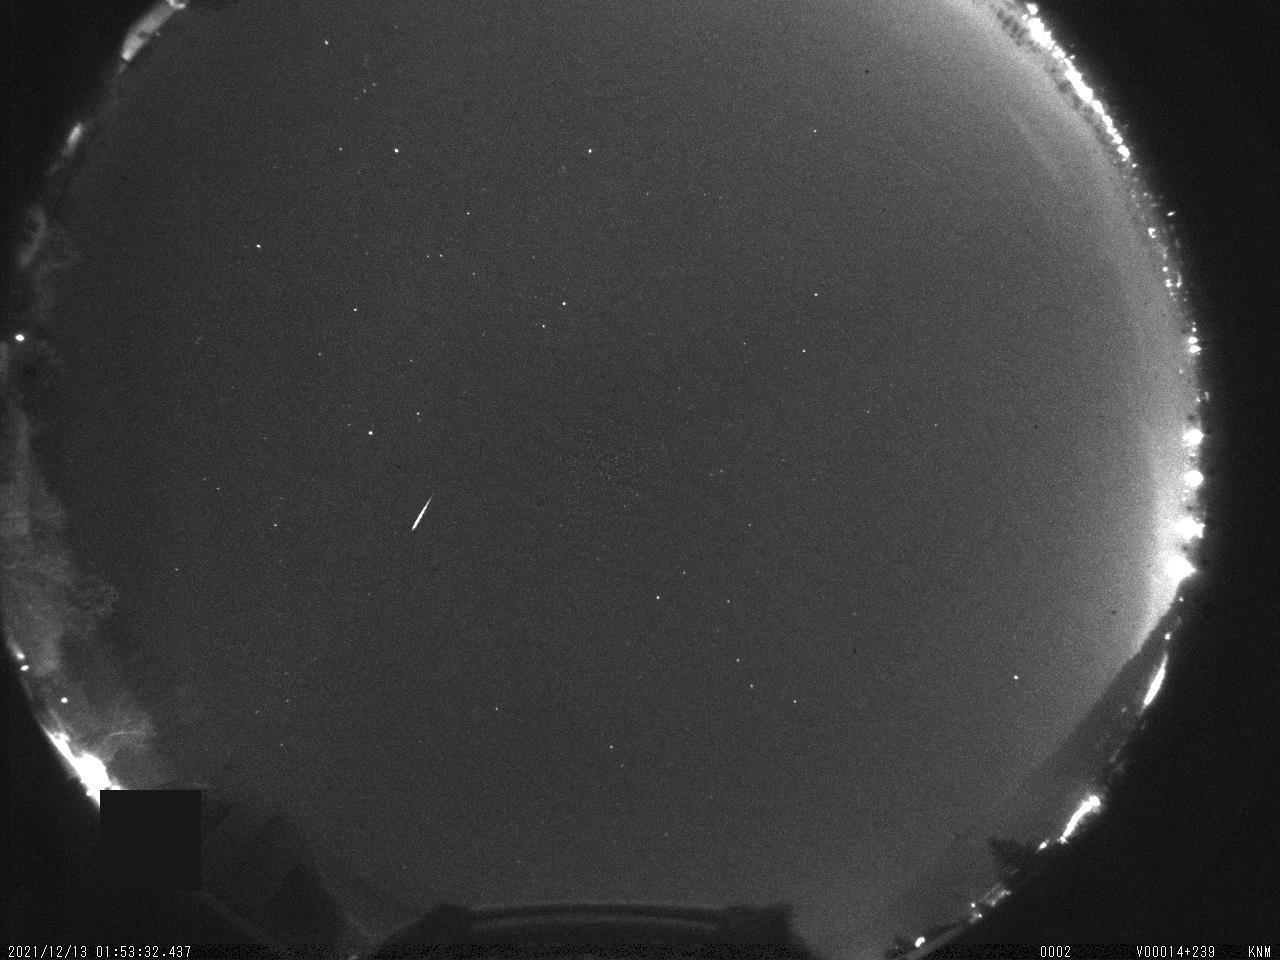Meteor: (407, 490, 436, 533)
